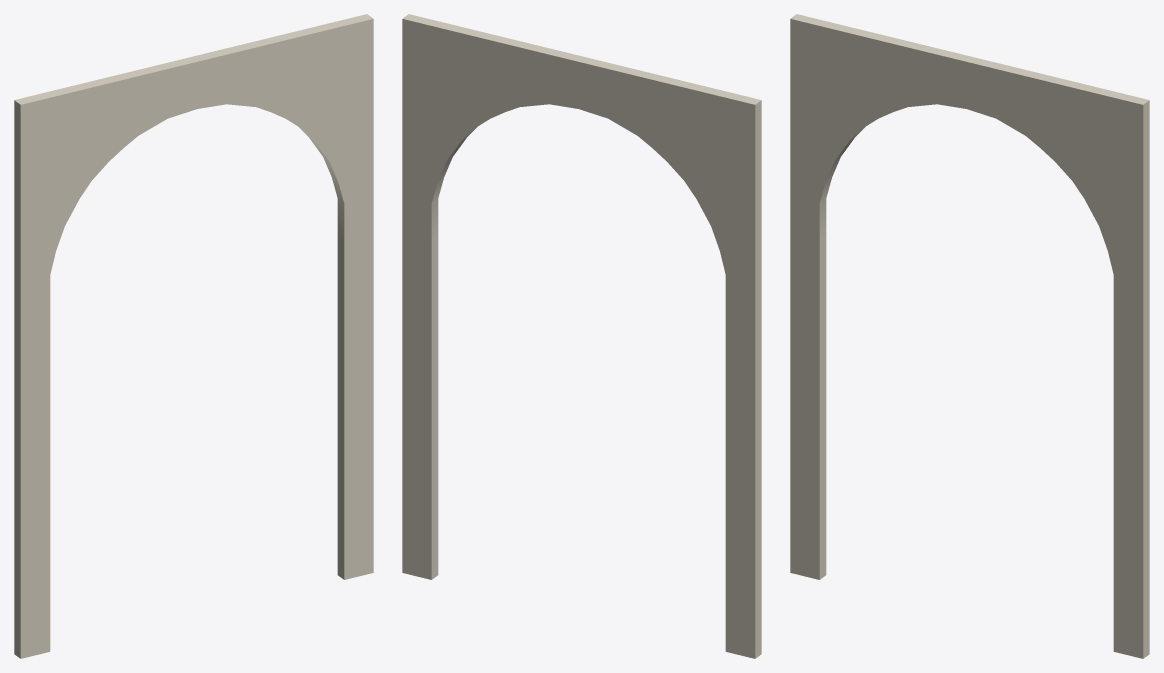
Rendered from Wall_Arch.glb.
3 views of the same model, side by side, from view 1: azimuth 30°, elevation 25°; view 2: azimuth 150°, elevation 25°; view 3: azimuth 330°, elevation 25° (orthographic).
Visible parts, largest first — view 1: Wall_Arch; view 2: Wall_Arch; view 3: Wall_Arch.
Part boxes in pixels (x1,y1,x2,y2): Wall_Arch: (14, 14, 373, 658); Wall_Arch: (402, 14, 761, 658); Wall_Arch: (790, 14, 1149, 658).
Bounding box in the file's own units: 2 × 3 × 0.064.
